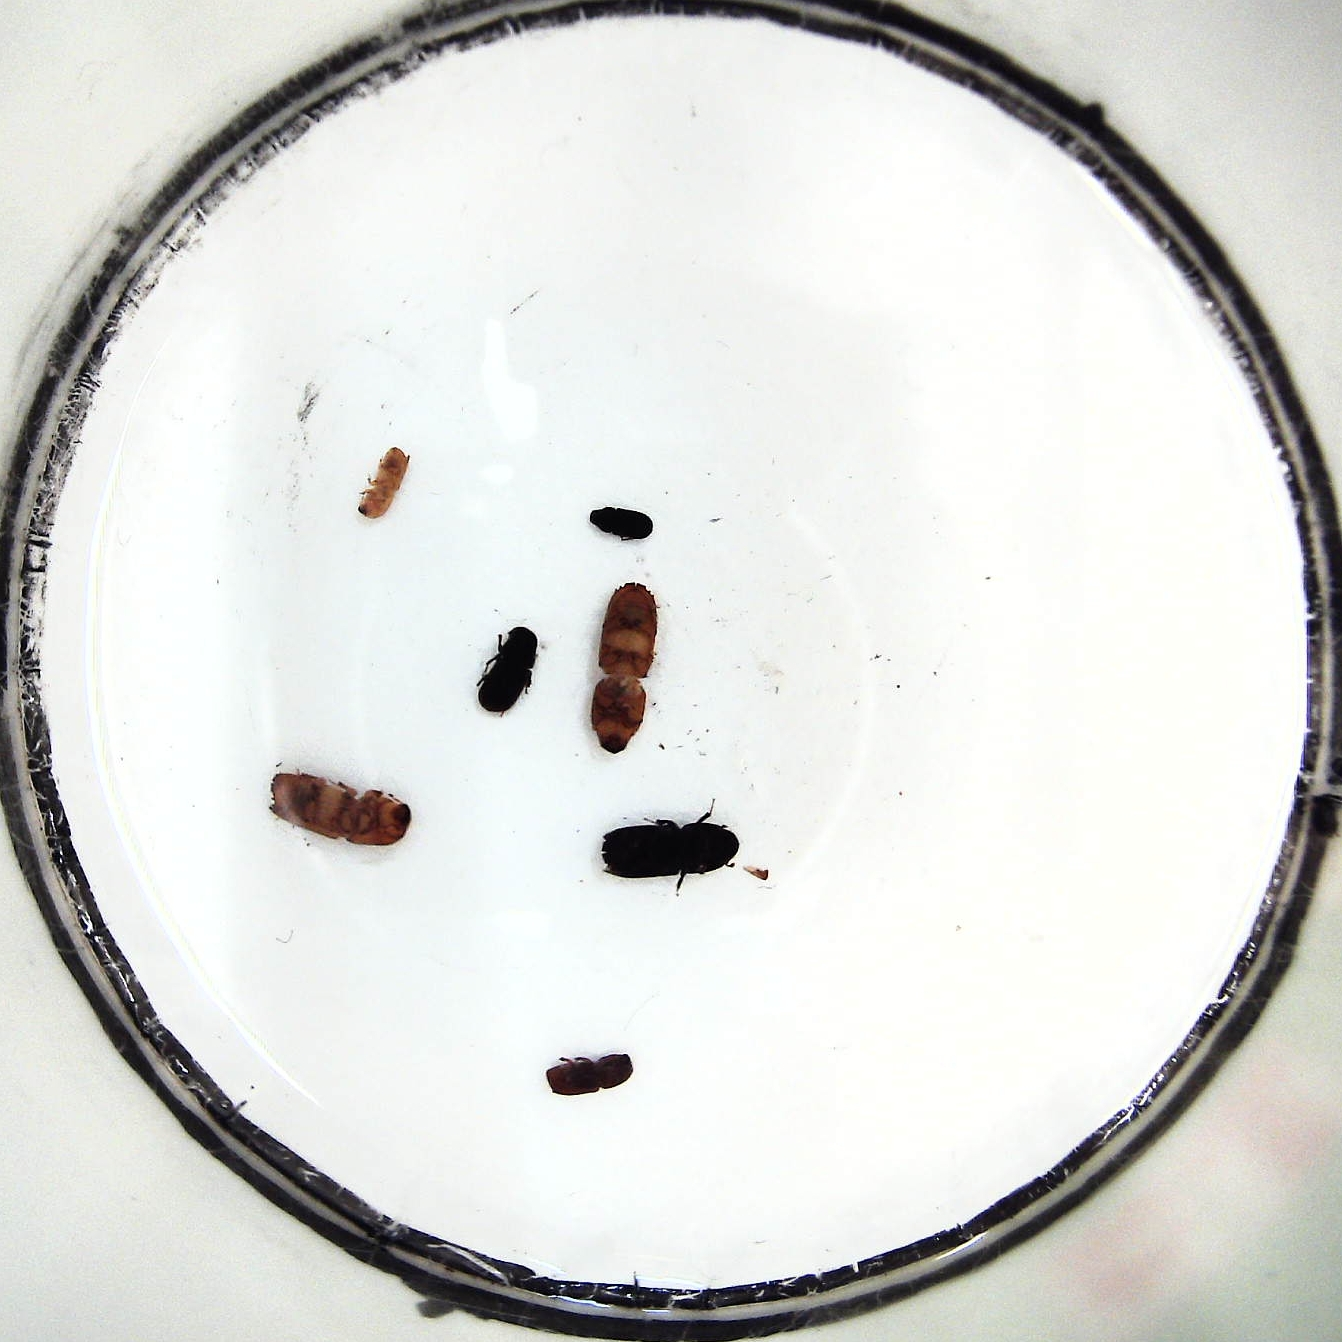Boerner: (587, 583, 657, 755), (264, 768, 412, 848), (598, 816, 744, 880)
Linnaeus: (542, 1048, 635, 1099)
acuminatus: (354, 445, 409, 522)
armandi: (476, 626, 540, 716)
coleoptera: (587, 504, 654, 540)
